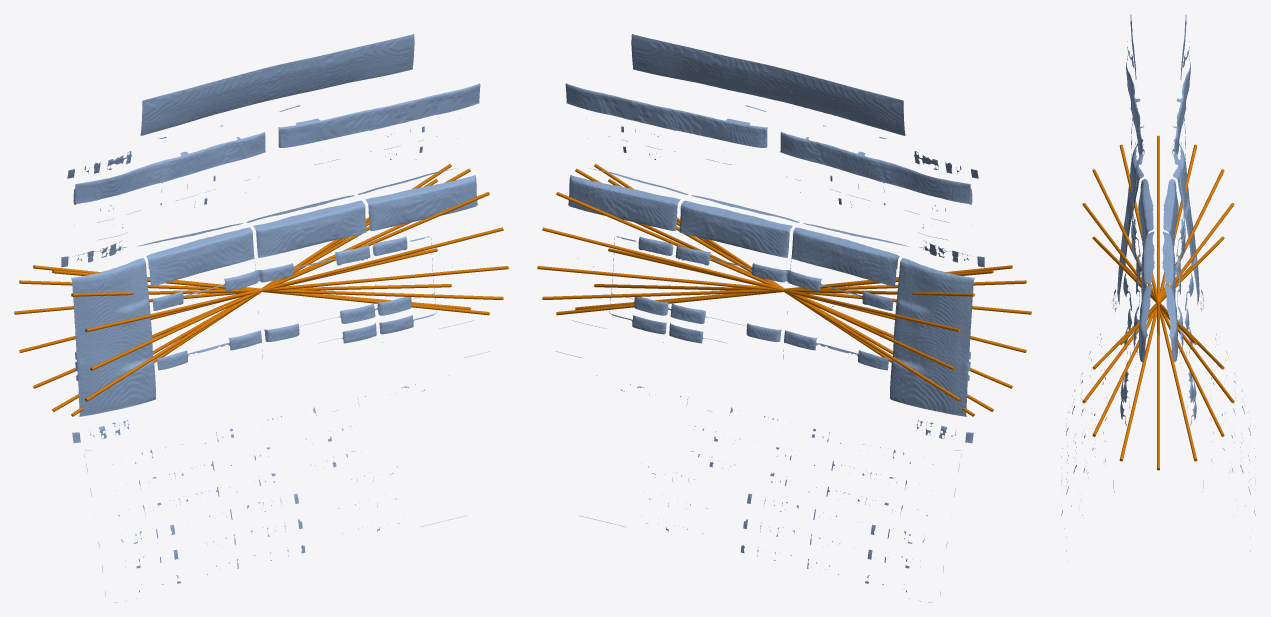
Rendered from A60025765_6150-37-520-1795_DigitalTwin.glb.
3 views of the same model, side by side, from view 1: azimuth 30°, elevation 25°; view 2: azimuth 150°, elevation 25°; view 3: azimuth 270°, elevation 25° (orthographic). The views are drawn at different scales.
Parts seen in each view (by area): view 1: world; view 2: world; view 3: world.
Boxes of the visible parts, x1,y1,x2,y2 form: world: (14, 34, 508, 602); world: (537, 34, 1031, 602); world: (1061, 14, 1255, 551).
Size of the model in its own units: 581 by 616 by 244.
